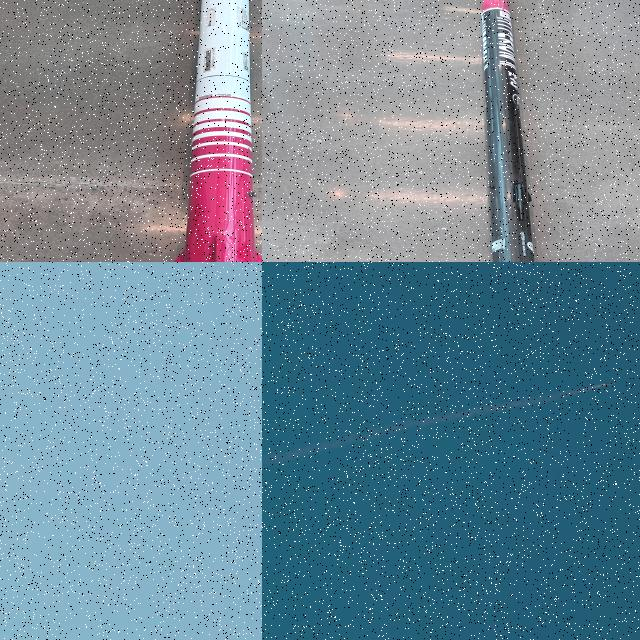Rocket: (173, 0, 262, 262), (481, 0, 535, 262), (604, 381, 616, 387)
